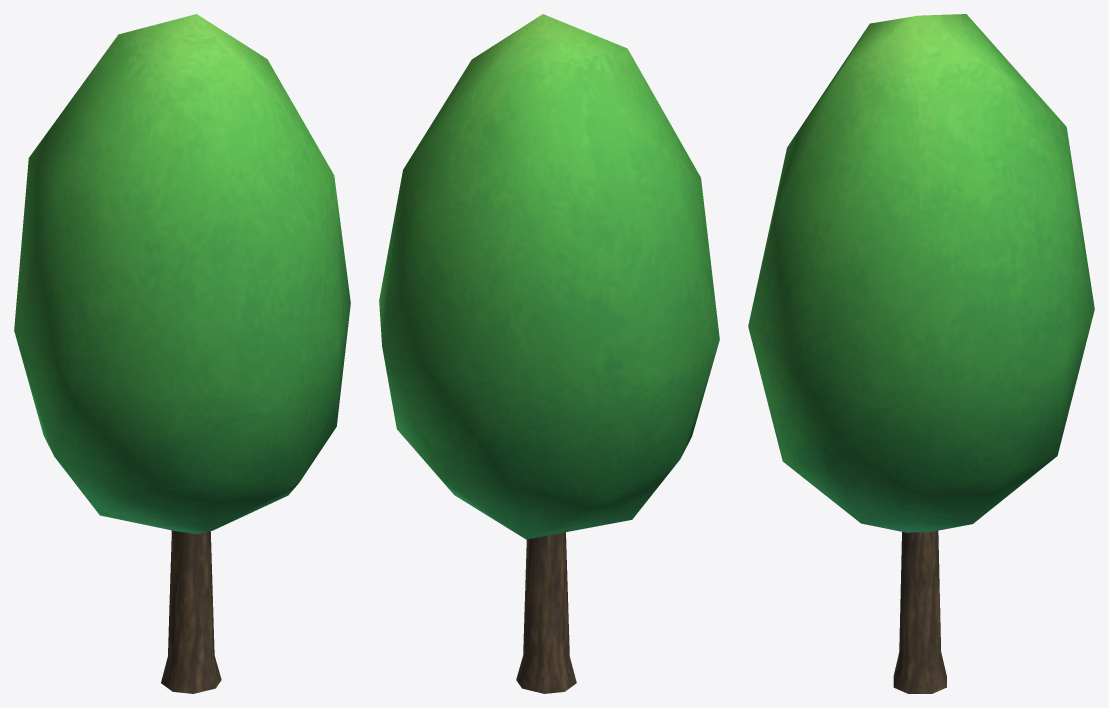
Rendered from Tree_Oak_2.fbx.
3 views of the same model, side by side, from view 1: azimuth 30°, elevation 25°; view 2: azimuth 150°, elevation 25°; view 3: azimuth 270°, elevation 25° (orthographic).
Visible parts, largest first — view 1: Icosphere.083, Cube.080; view 2: Icosphere.083, Cube.080; view 3: Icosphere.083, Cube.080.
Part boxes in pixels (x1,y1,x2,y2): Icosphere.083: (14,14,350,534); Cube.080: (161,530,221,693); Icosphere.083: (379,14,719,539); Cube.080: (516,532,576,693); Icosphere.083: (748,14,1094,532); Cube.080: (893,530,946,693).
Bounding box in the file's own units: 237 × 521 × 245.
2 materials, 2 textured.
